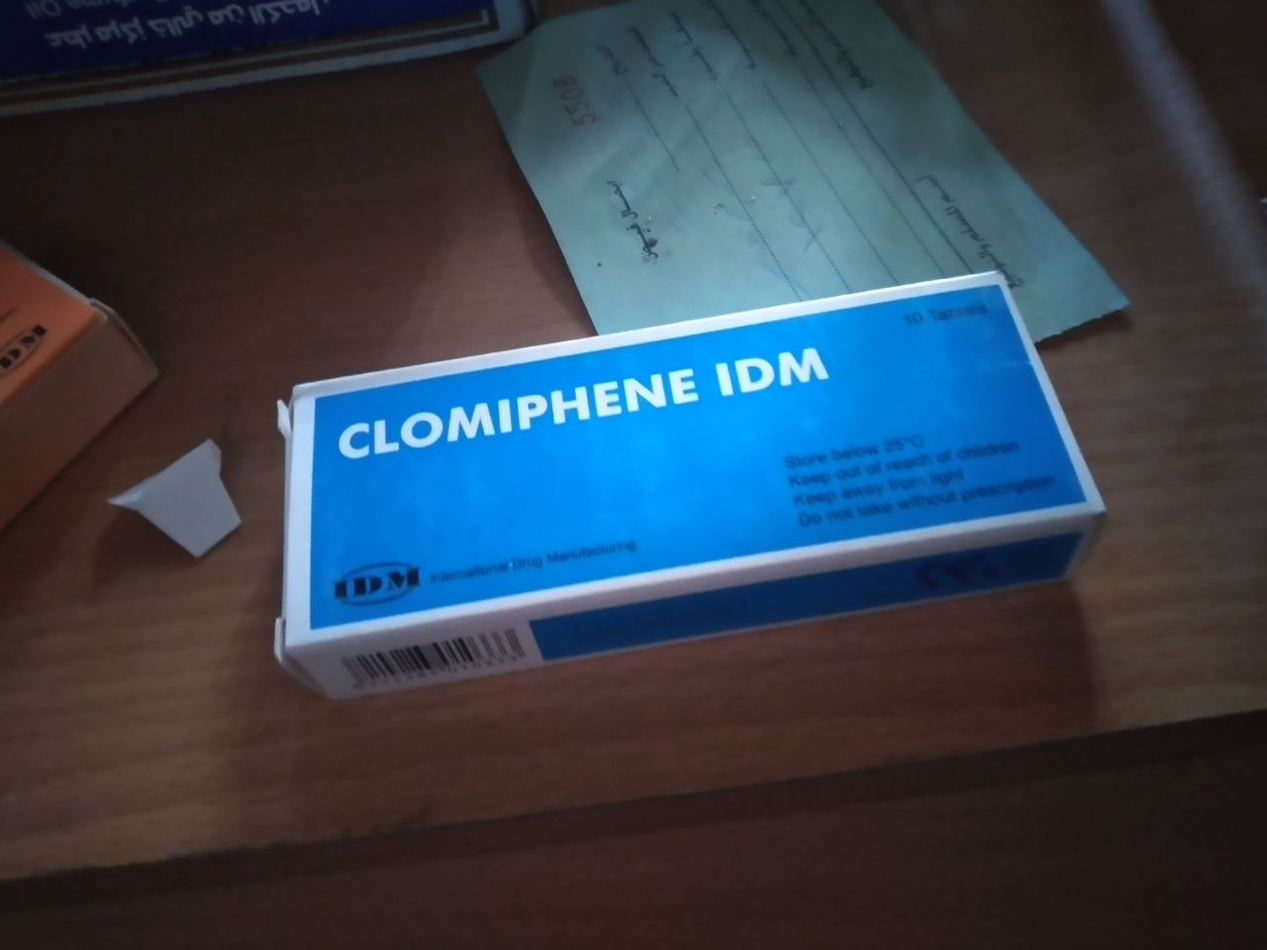Medicine: (277, 257, 1101, 695)
